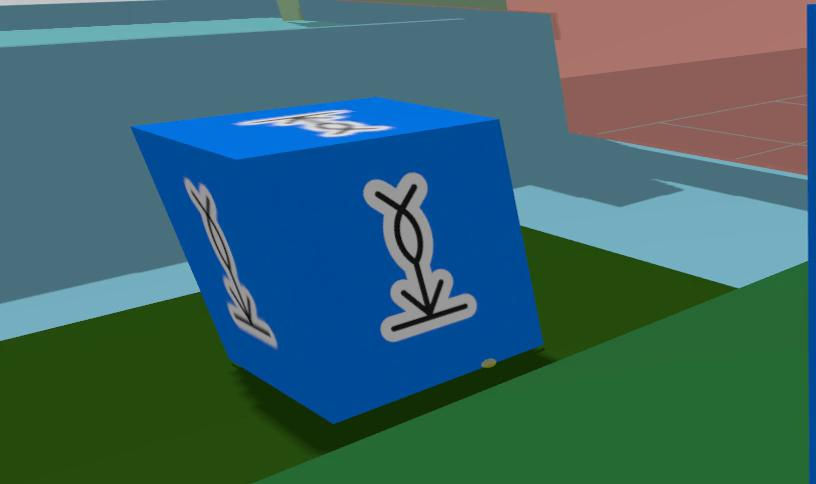KFS_REAL: (133, 98, 541, 422), (364, 172, 476, 341), (184, 178, 275, 348), (809, 8, 816, 484)
